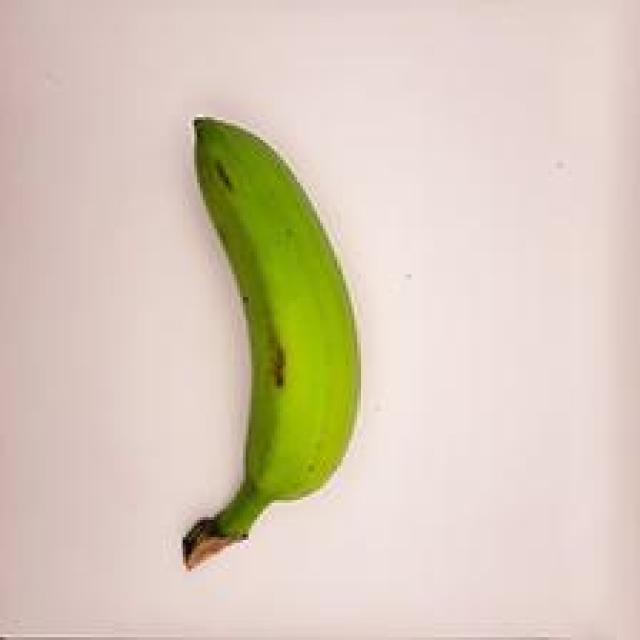raw: (141, 95, 382, 590)
